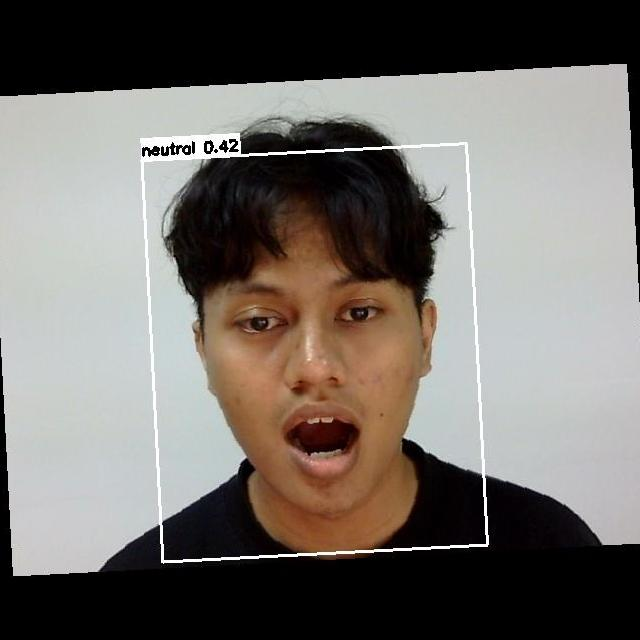Surprised: (209, 253, 437, 484)
